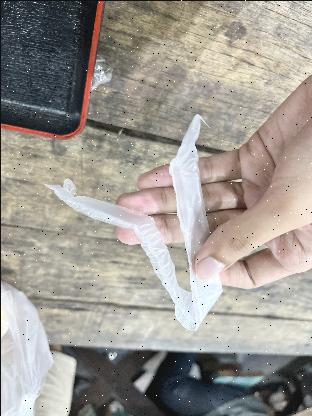Others: (41, 113, 231, 332)
